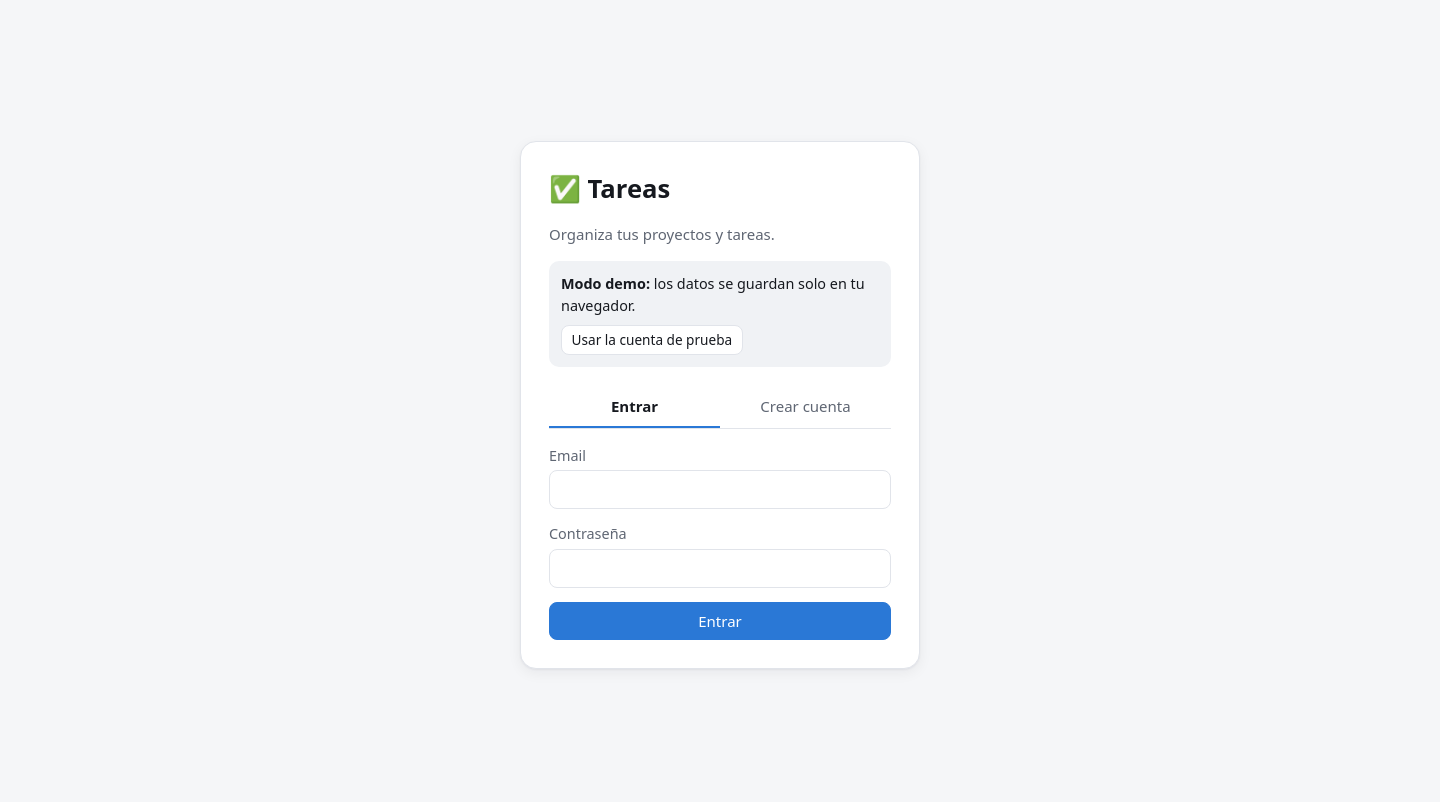
Test: el filtro de vencidas y la barra lateral de proyectos
Step 1. Type "demo@example.com" into the field labelled "Email" → [720, 490], box [549,470,891,509]
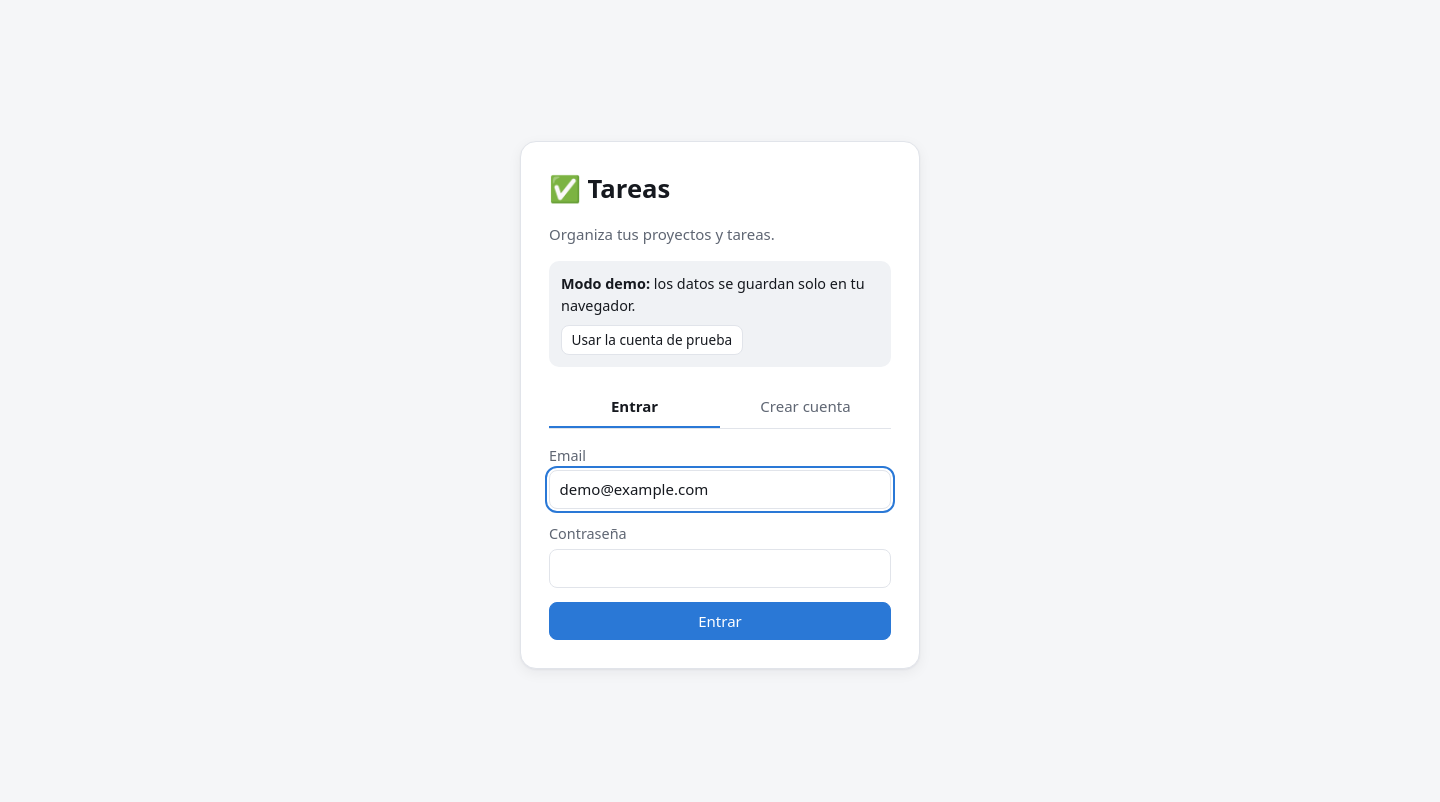
Step 2. Type "demo1234" into the password field labelled "Contraseña" → [720, 568], box [549,549,891,588]
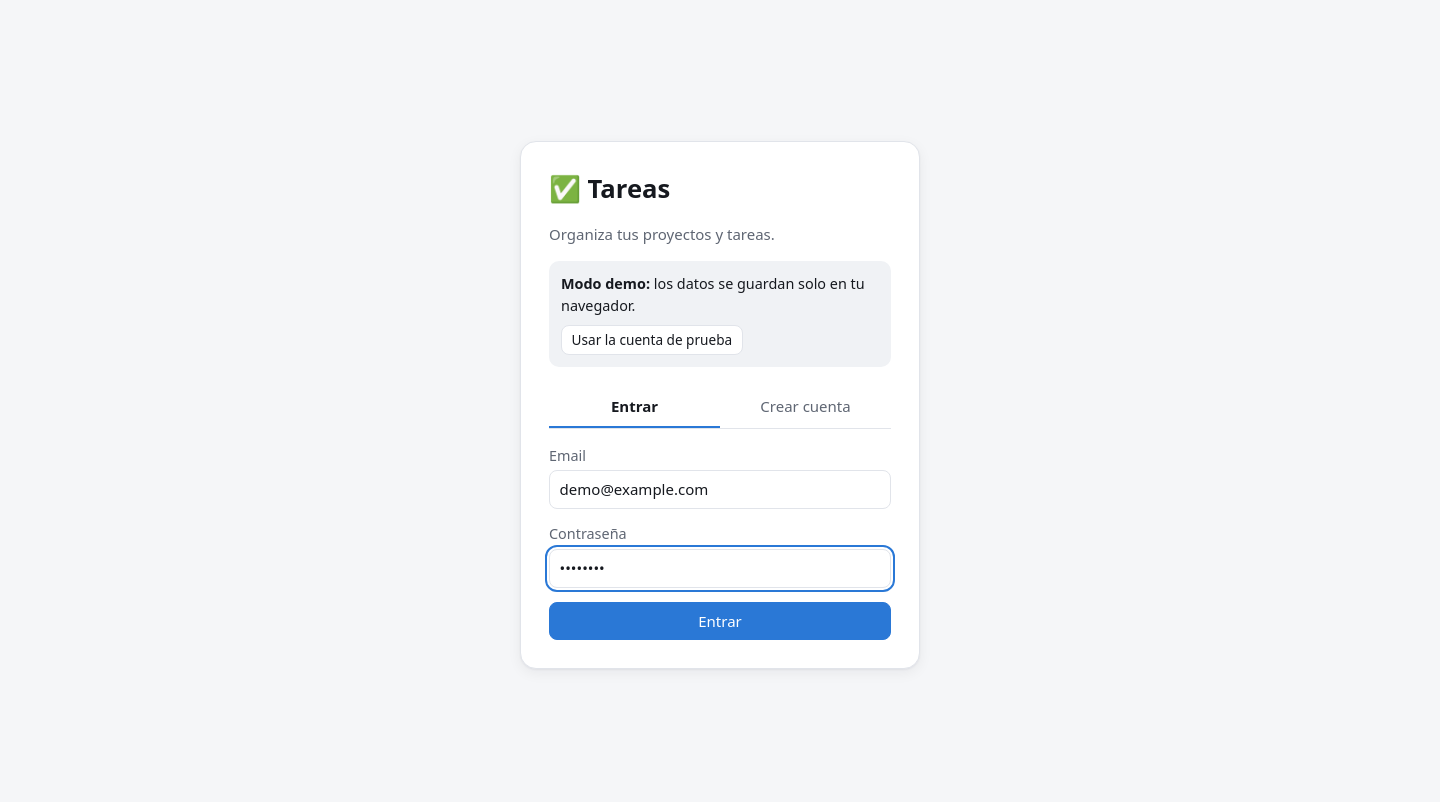
Step 3. Click the button "Entrar" → [720, 621], box [549,602,891,640]
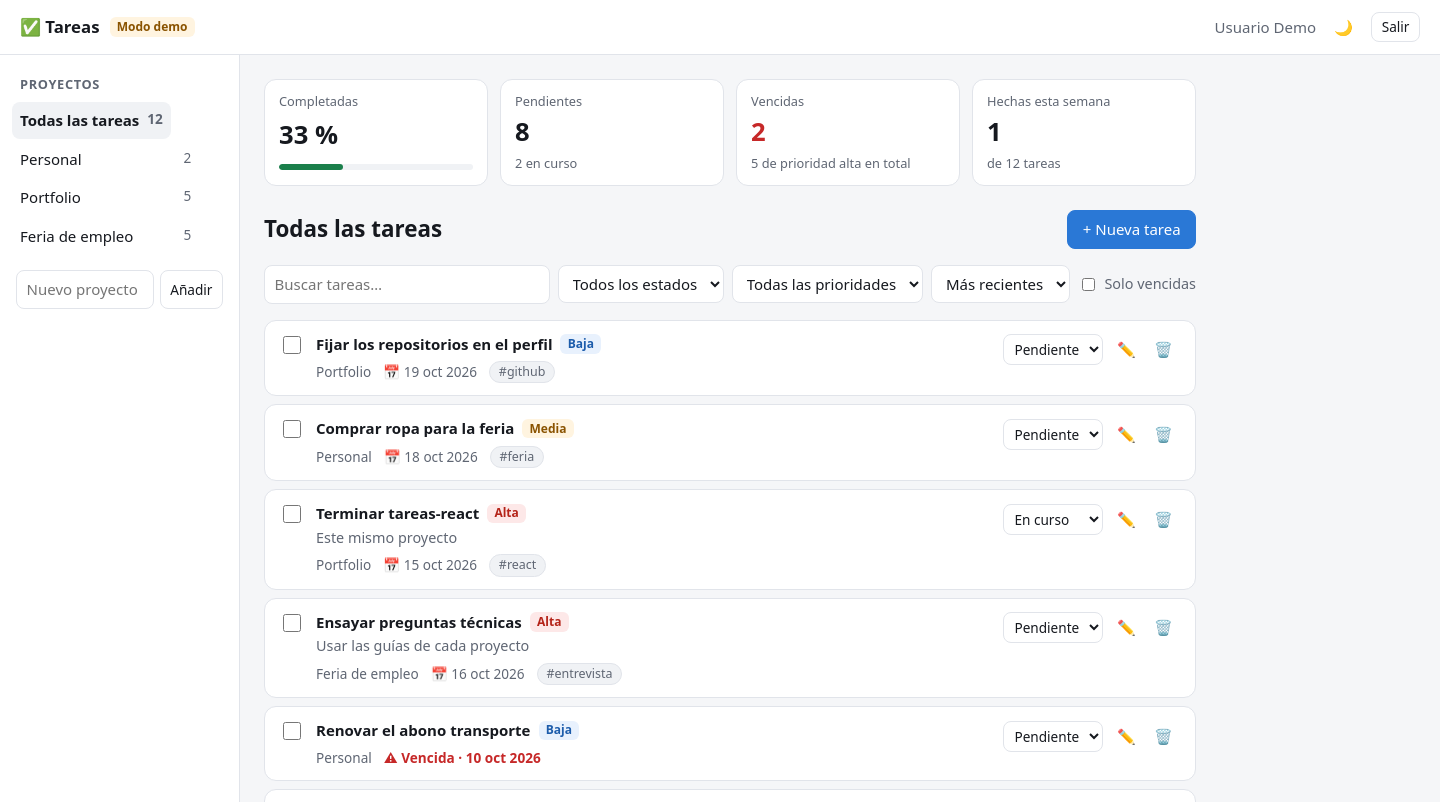
Step 4. Click the checkbox labelled "Solo vencidas" → [1089, 284], box [1082,278,1096,291]
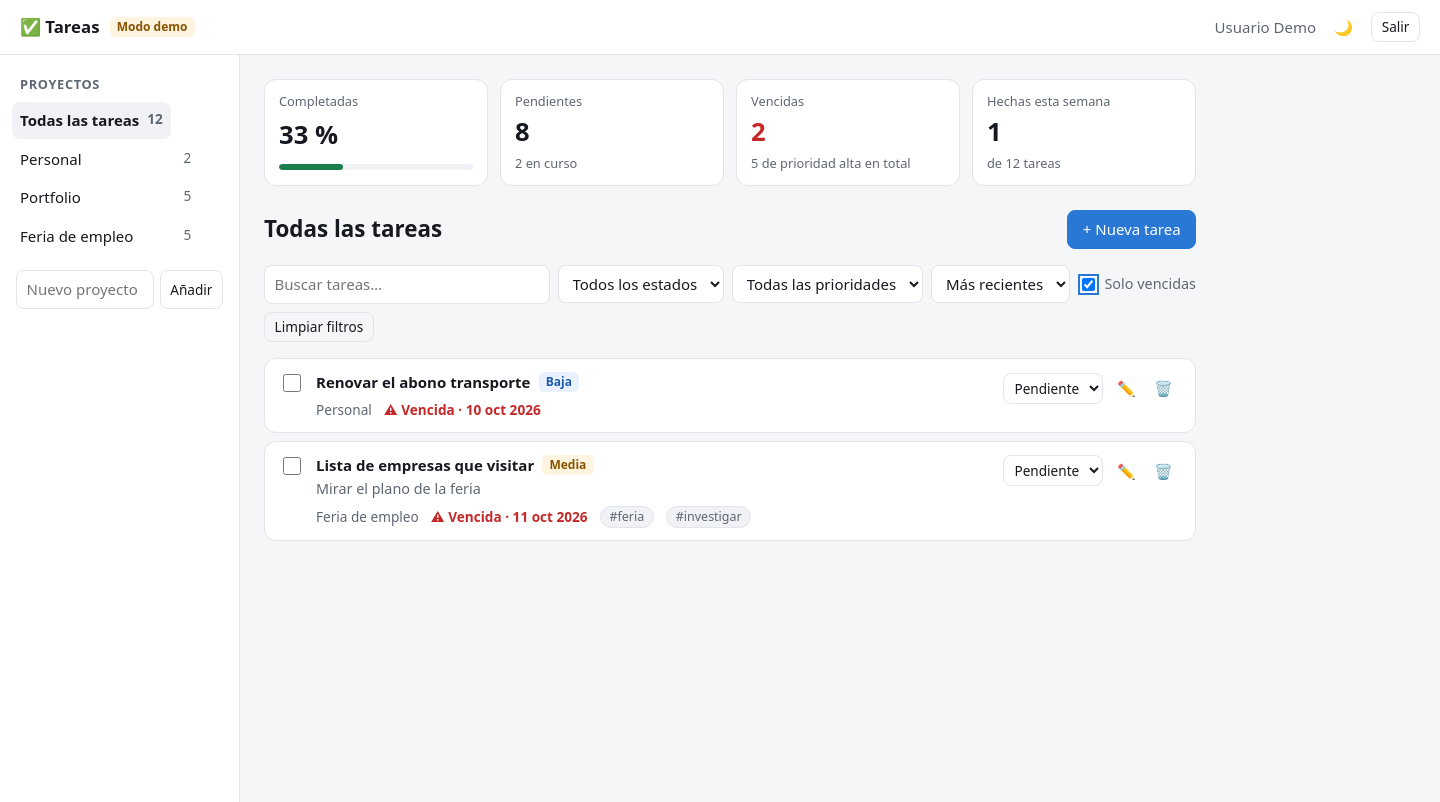
Step 5. Click the button "Portfolio 5" → [106, 198], box [12,179,199,216]
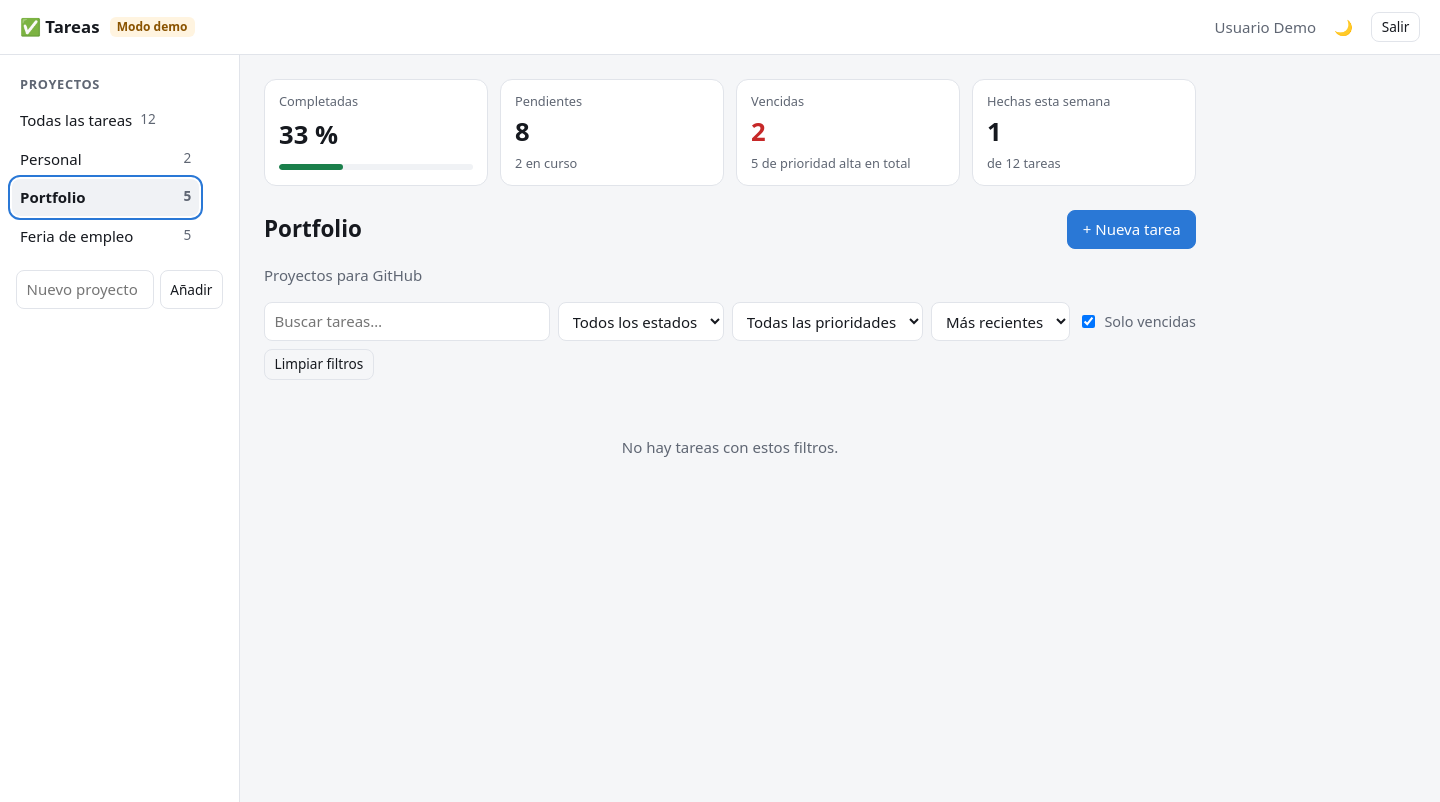
Expected: the heading "Portfolio" is shown, [264,212,362,246]
Expected: the text "No hay tareas con estos filtros." is shown, [622,436,838,456]
